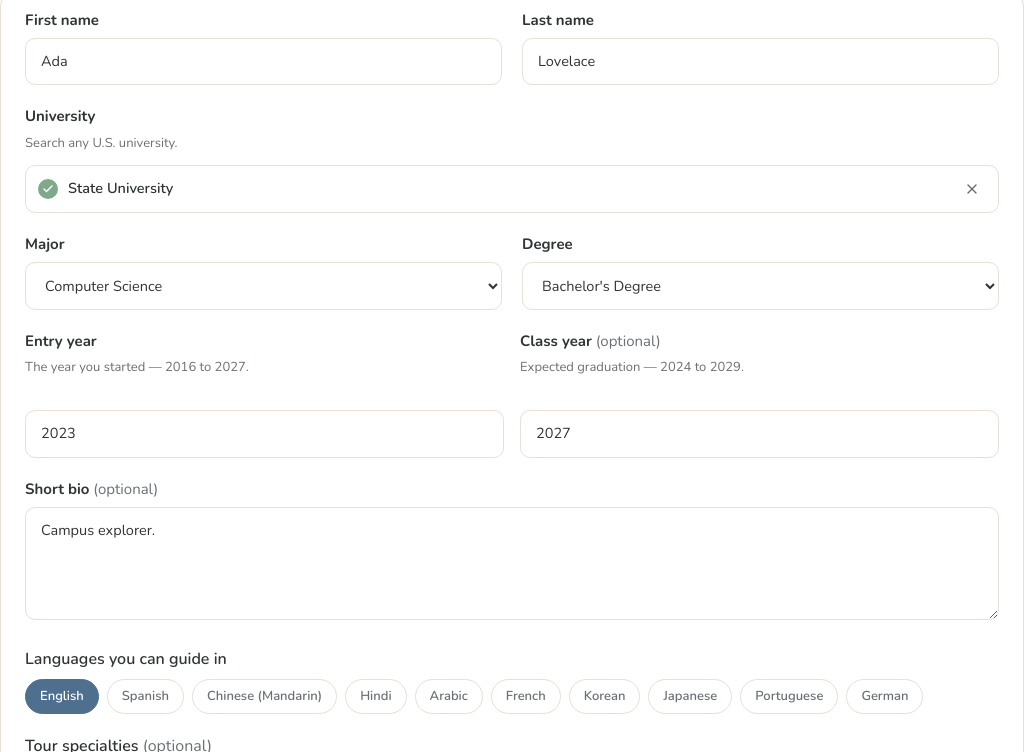
Test: GuideProfileForm › does not treat a cleared entry year as no change
This screenshot has width=1024, height=752.
Clear the field labelled "Entry year" at (264, 434), box [25,410,504,458]
(page scrolled)
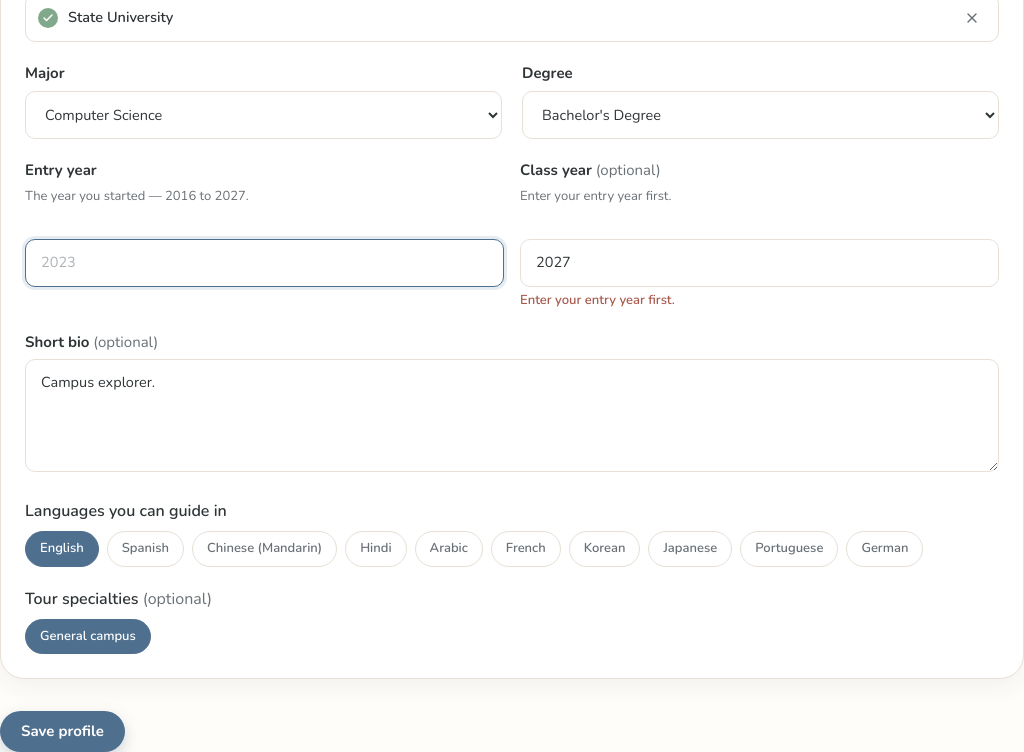
Click the button "Save profile" at (62, 732), box [0,711,125,751]
(page scrolled)
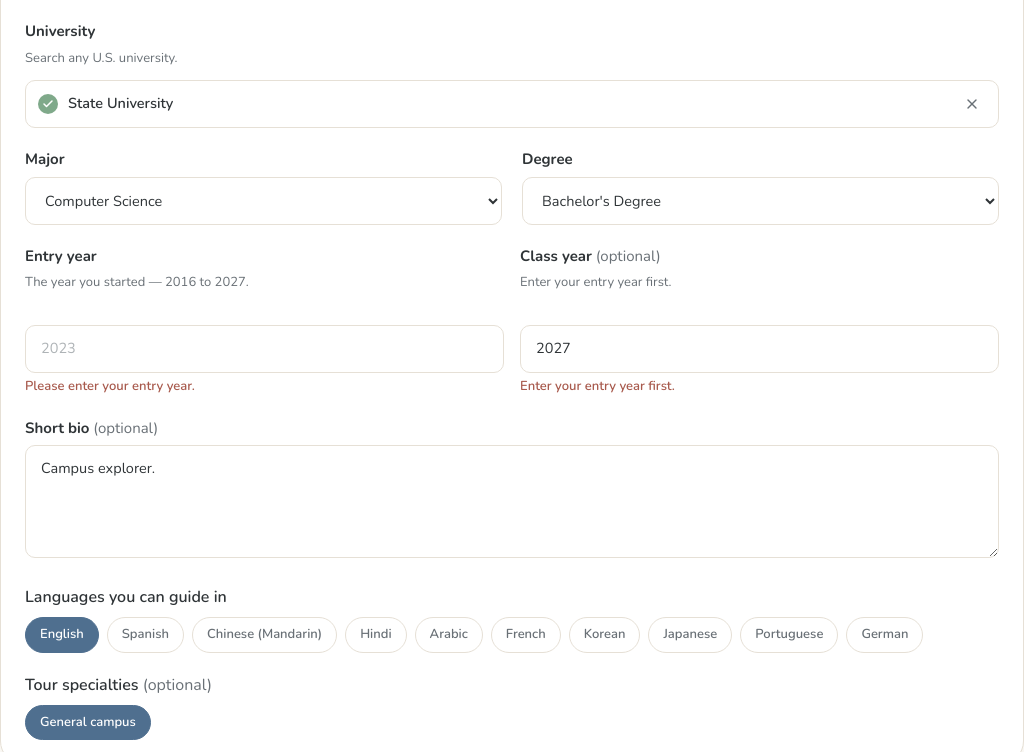
Expected: the text "Please enter your entry year." is shown, [25,377,195,395]
